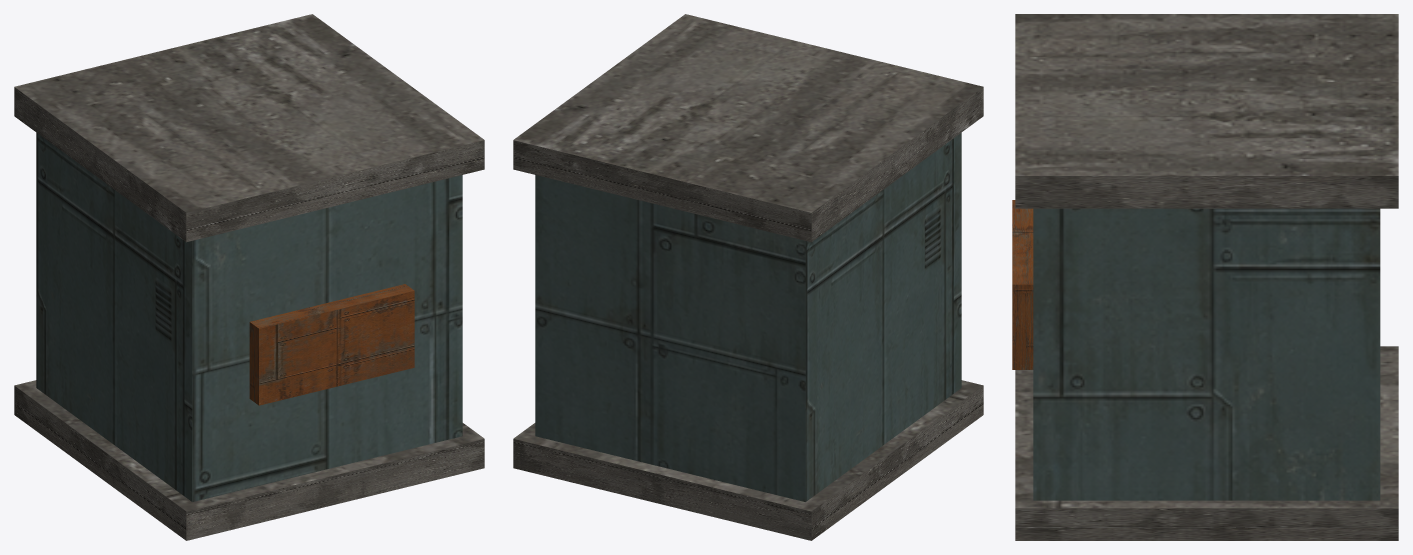
The model's file is cargo-crate.gltf.
3 renders of one model, left to right at view 1: azimuth 30°, elevation 25°; view 2: azimuth 150°, elevation 25°; view 3: azimuth 270°, elevation 25°, orthographic. The views are drawn at different scales.
Visible parts, largest first — view 1: cargo-crate; view 2: cargo-crate; view 3: cargo-crate.
Part boxes in pixels (x1,y1,x2,y2): cargo-crate: [14, 14, 484, 540]; cargo-crate: [513, 14, 983, 540]; cargo-crate: [1012, 14, 1398, 540].
Bounding box in the file's own units: 1.38 × 1.45 × 1.39.
1 material, 1 textured.
